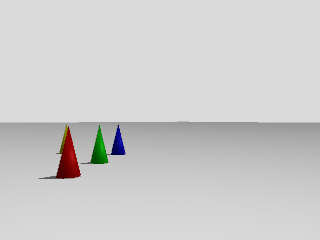blue: (110, 123, 126, 156)
green: (89, 124, 108, 166)
red: (57, 125, 81, 180)
